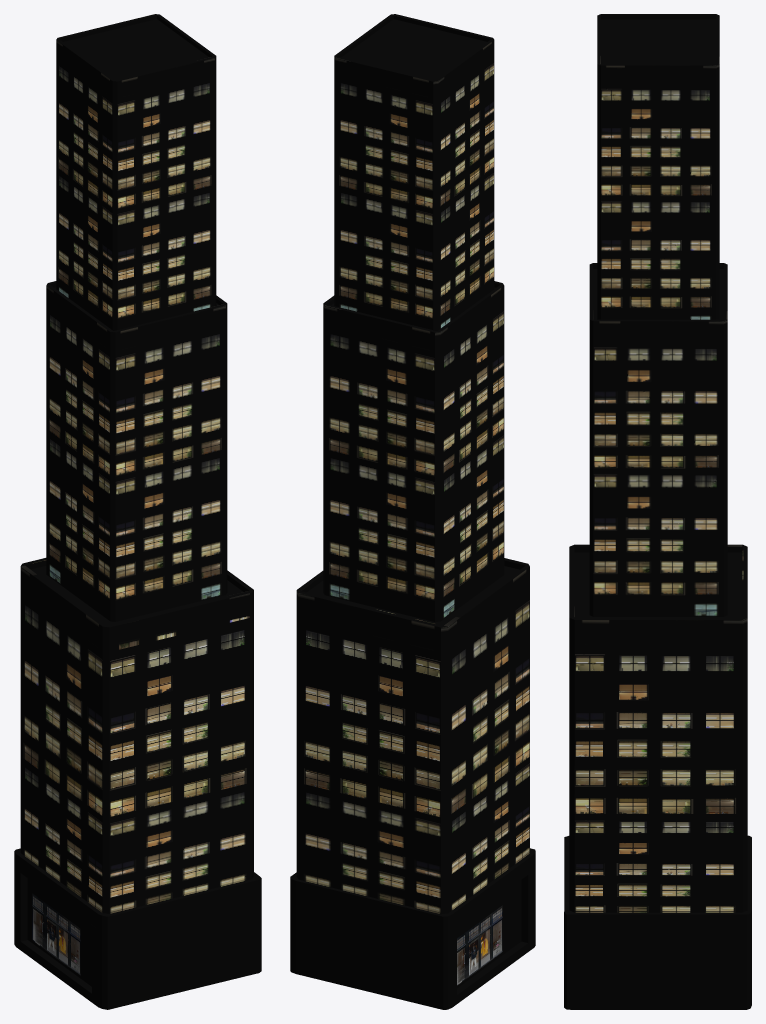
Rendered from building10.FBX.
3 renders of one model, left to right at view 1: azimuth 30°, elevation 25°; view 2: azimuth 150°, elevation 25°; view 3: azimuth 270°, elevation 25°, orthographic. The views are drawn at different scales.
Parts seen in each view (by area): view 1: Box004; view 2: Box004; view 3: Box004.
Part boxes in pixels (box(x1,y1,x2,y2)): Box004: box(14, 14, 261, 1009); Box004: box(290, 14, 535, 1009); Box004: box(564, 14, 751, 1009).
Size of the model in its own units: 26.47 by 144 by 26.33.
